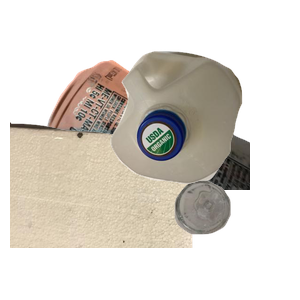glass: (172, 178, 300, 300)
metal: (43, 58, 283, 238)
plastic: (108, 49, 300, 226)
trash: (10, 120, 207, 300)
